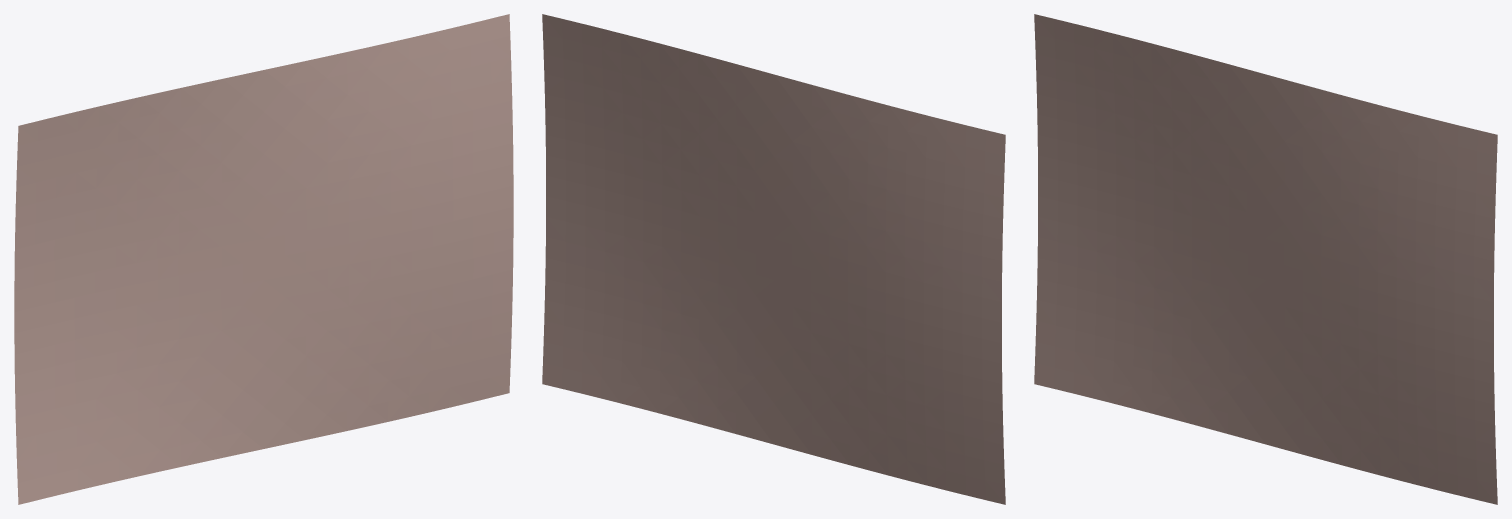
Rendered from mesentery.glb.
The picture shows the model from 3 angles, left to right: view 1: azimuth 30°, elevation 25°; view 2: azimuth 150°, elevation 25°; view 3: azimuth 330°, elevation 25°; orthographic projection. The views are drawn at different scales.
Visible parts, largest first — view 1: mesentery; view 2: mesentery; view 3: mesentery.
Part boxes in pixels (left/top/right/bottom): mesentery: left=14, top=14, right=513, bottom=504; mesentery: left=542, top=14, right=1005, bottom=504; mesentery: left=1034, top=14, right=1497, bottom=504.
Bounding box in the file's own units: 0.2 × 0.15 × 0.012.
